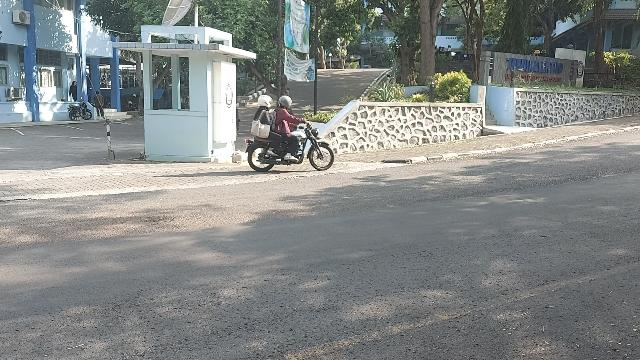helm: (259, 96, 273, 108), (280, 97, 293, 109)
motor: (246, 124, 335, 172)
